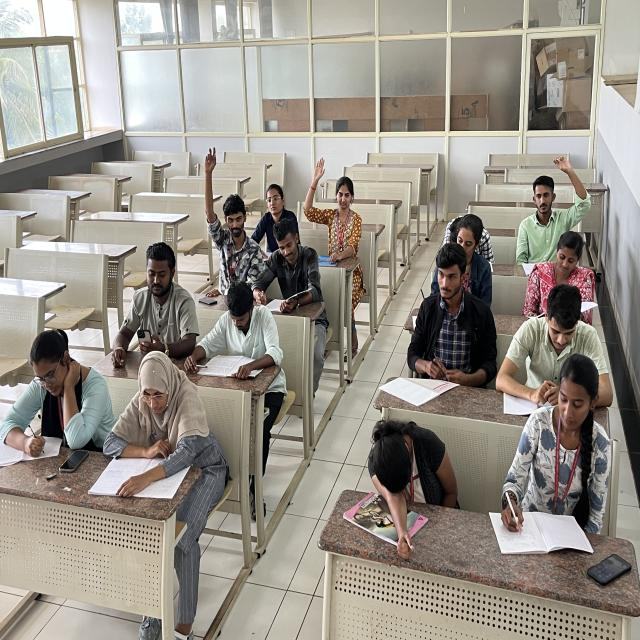Hand Rising: (198, 144, 260, 283), (518, 153, 594, 248), (304, 156, 364, 248)
Reading: (100, 349, 215, 496), (496, 284, 602, 417), (194, 279, 281, 379), (524, 231, 602, 324), (252, 214, 322, 311)
Sleeping: (358, 415, 460, 520), (444, 204, 497, 260)
Using Phone: (116, 241, 190, 356)
Writing: (493, 360, 591, 556), (0, 323, 107, 458), (409, 216, 492, 330)
